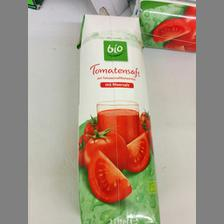Saft: (76, 13, 160, 224)
